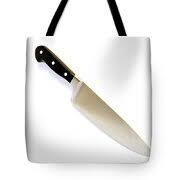Knife: (34, 44, 149, 156)
